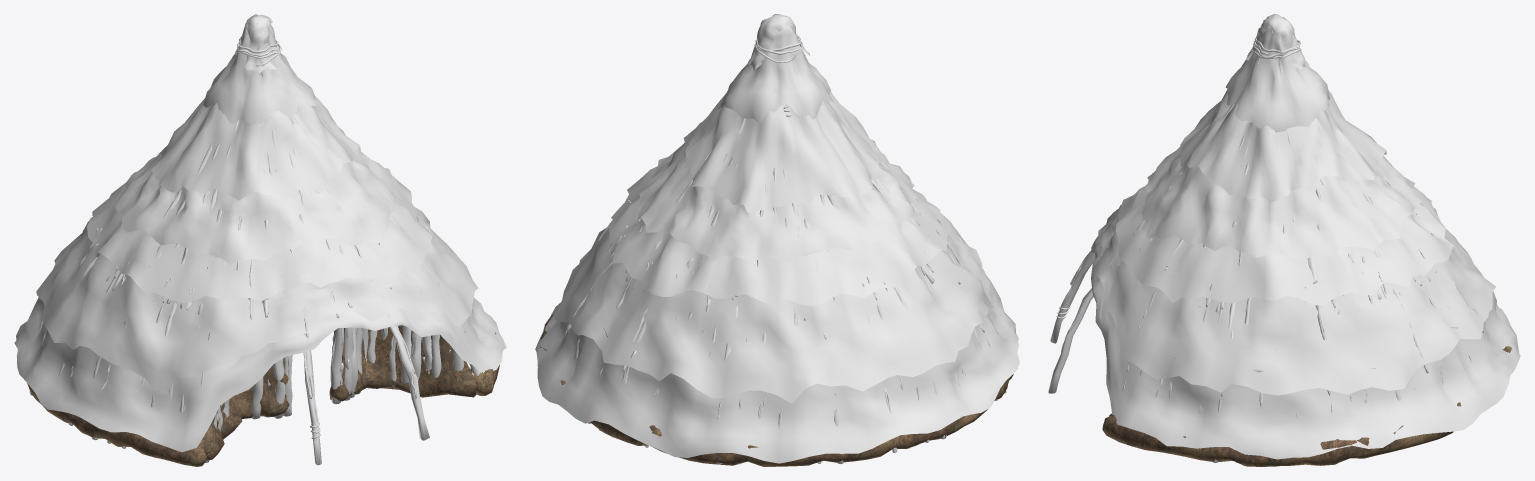
File: highpoly_african_hut_006.fbx
3 views of the same model, side by side, from view 1: azimuth 30°, elevation 25°; view 2: azimuth 150°, elevation 25°; view 3: azimuth 270°, elevation 25° (orthographic).
Visible parts, largest first — view 1: highpoly_african_hut_006; view 2: highpoly_african_hut_006; view 3: highpoly_african_hut_006.
Boxes of the visible parts, box(x1,y1,x2,y2) form: highpoly_african_hut_006: box(14, 14, 506, 466); highpoly_african_hut_006: box(535, 14, 1019, 466); highpoly_african_hut_006: box(1048, 14, 1520, 466).
Size of the model in its own units: 423 by 341 by 409.
